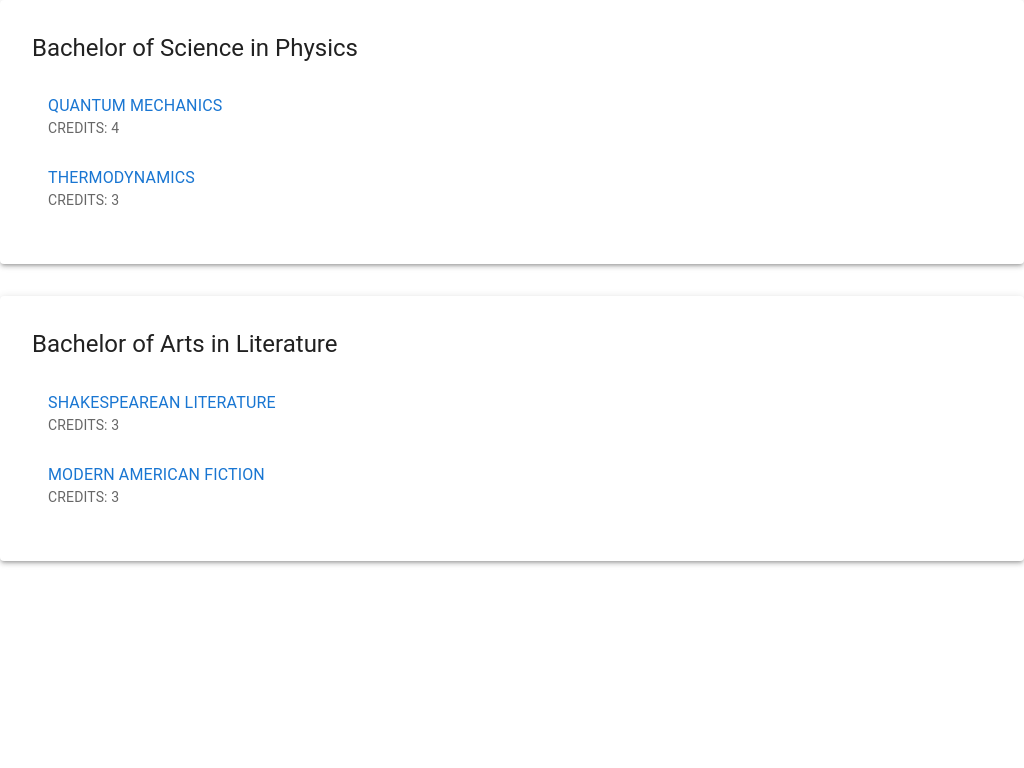
Test: Programs Component › closes the modal when the 'Close' button is clicked
// Click on the first course - Quantum Mechanics
What coordinates should you click on to do the following:
click the button with test id "program-program-1-course-title-course-1"
I would click on:
 (135, 106)
Its box is [32,80,992,152].
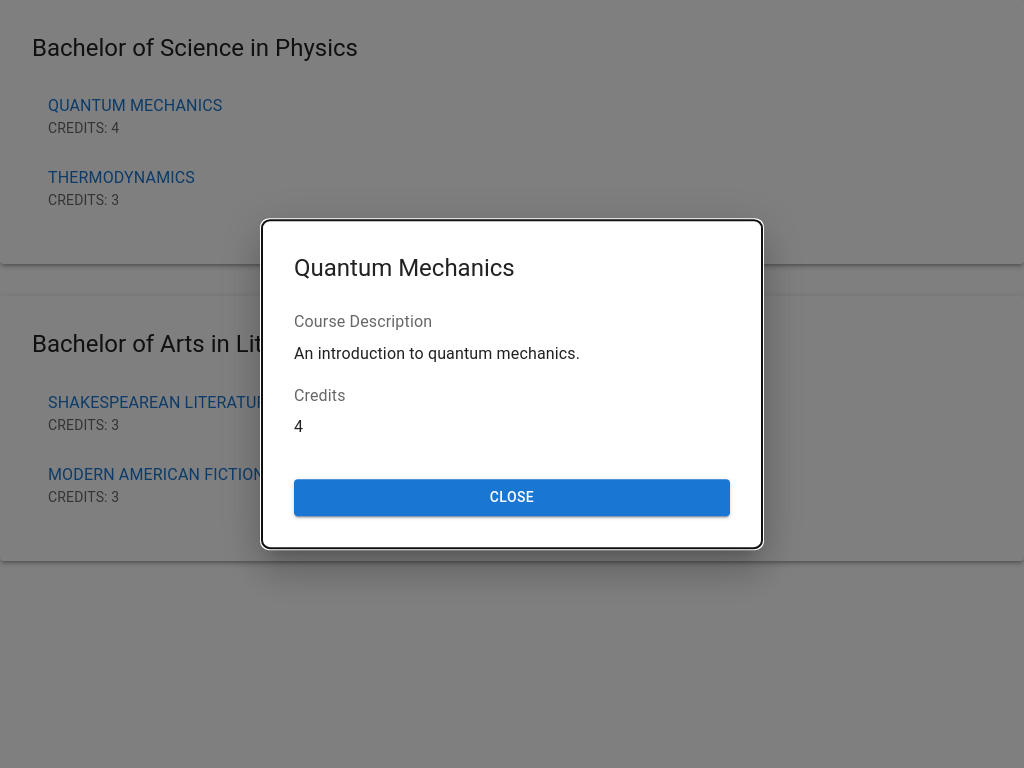
What coordinates should you click on to do the following:
click the button "Close"
I would click on:
 (512, 498)
Its box is [294,479,730,516].
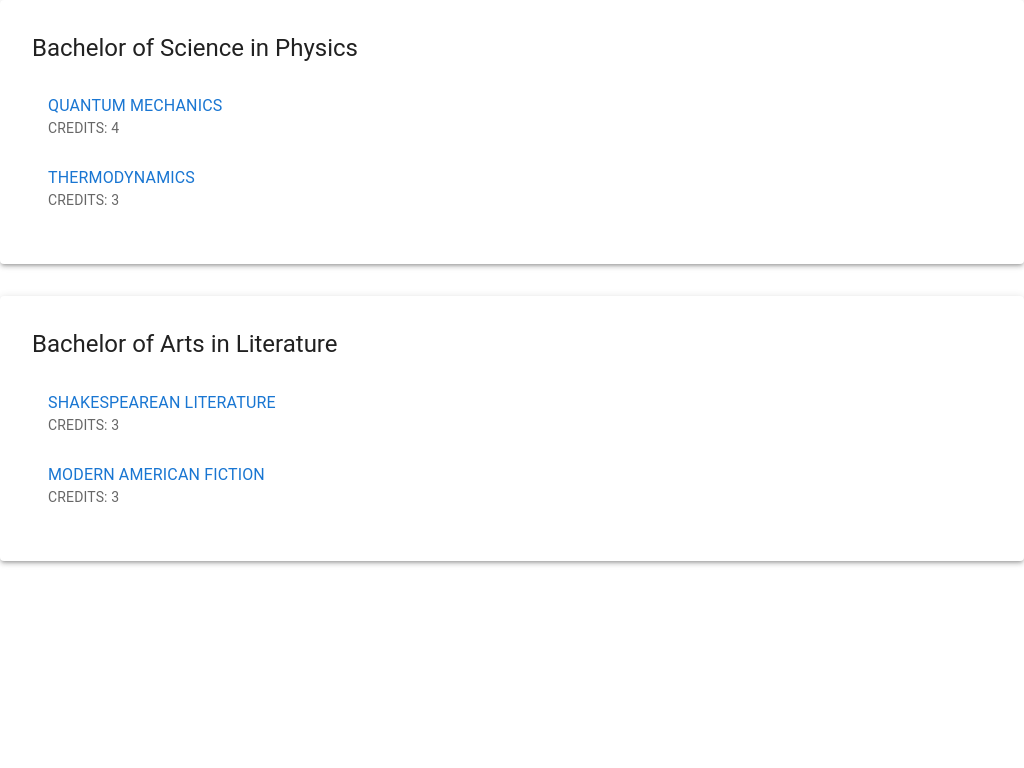
expect the heading with test id "modal-course-title-course-1" is gone: met
expect the text "An introduction to quantum mechanics." is gone: met
